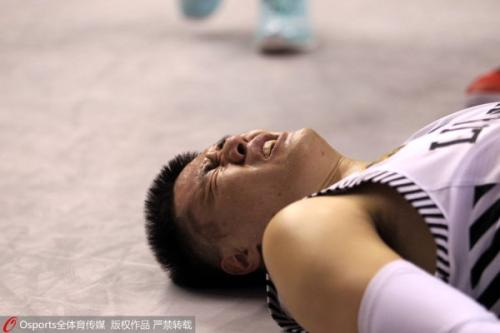fall: (145, 35, 497, 328)
